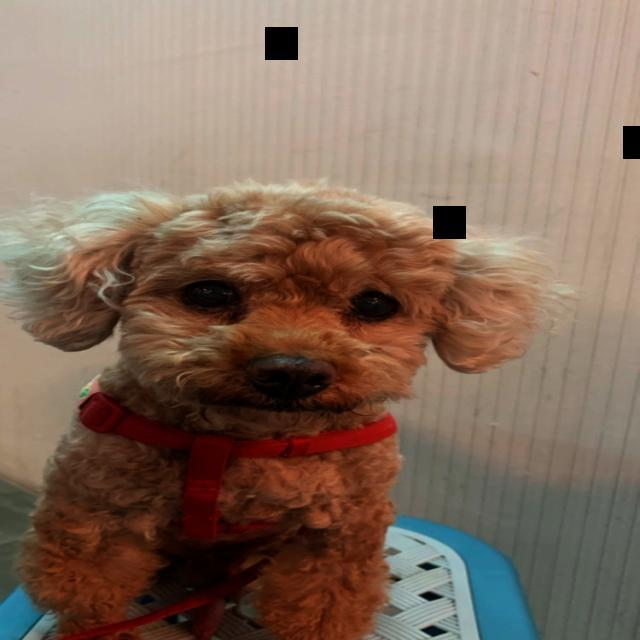adult_dog: (2, 177, 577, 640)
